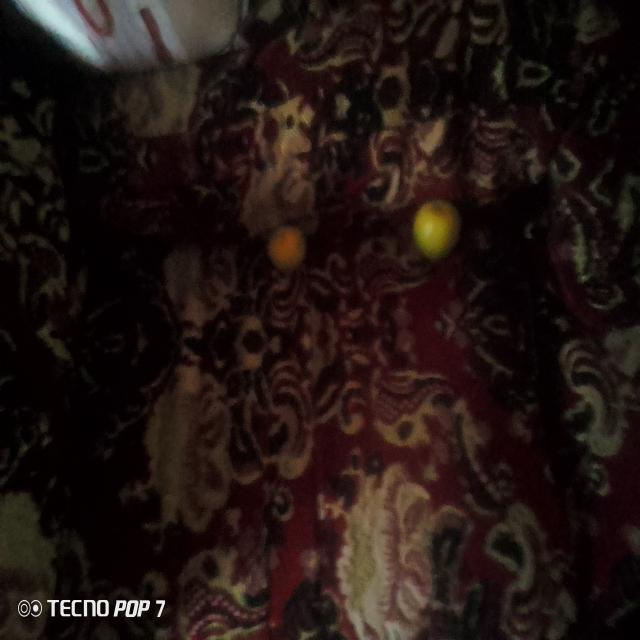Ripe orange: (396, 194, 470, 256), (256, 222, 313, 285)
